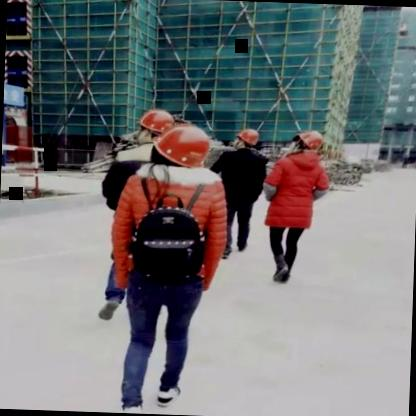helmet: (144, 121, 216, 174), (134, 103, 180, 146), (290, 124, 330, 158), (230, 126, 266, 152)
